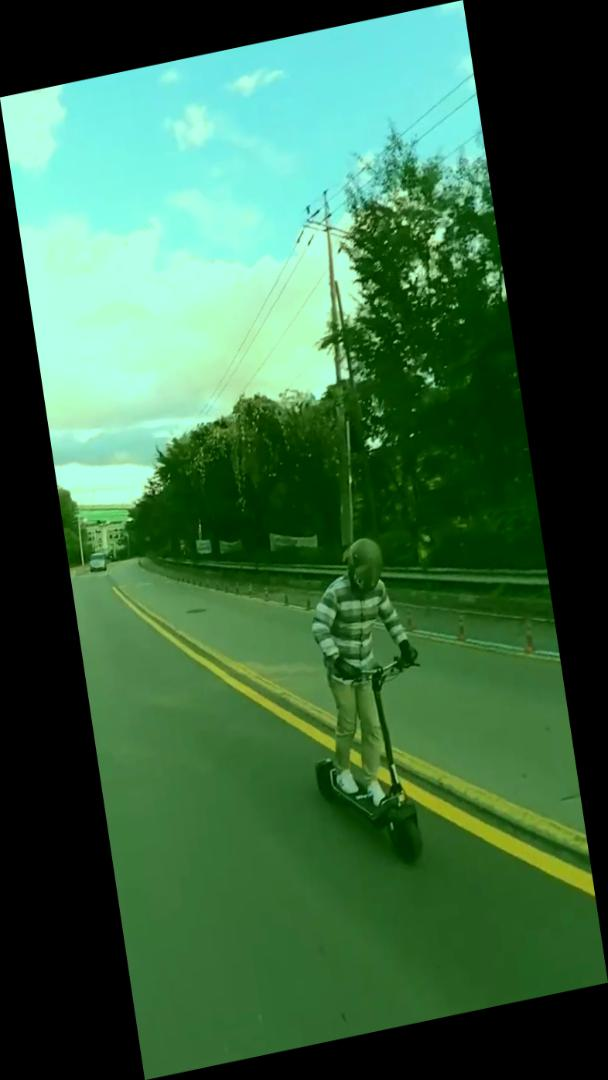helmet: (280, 525, 450, 886)
